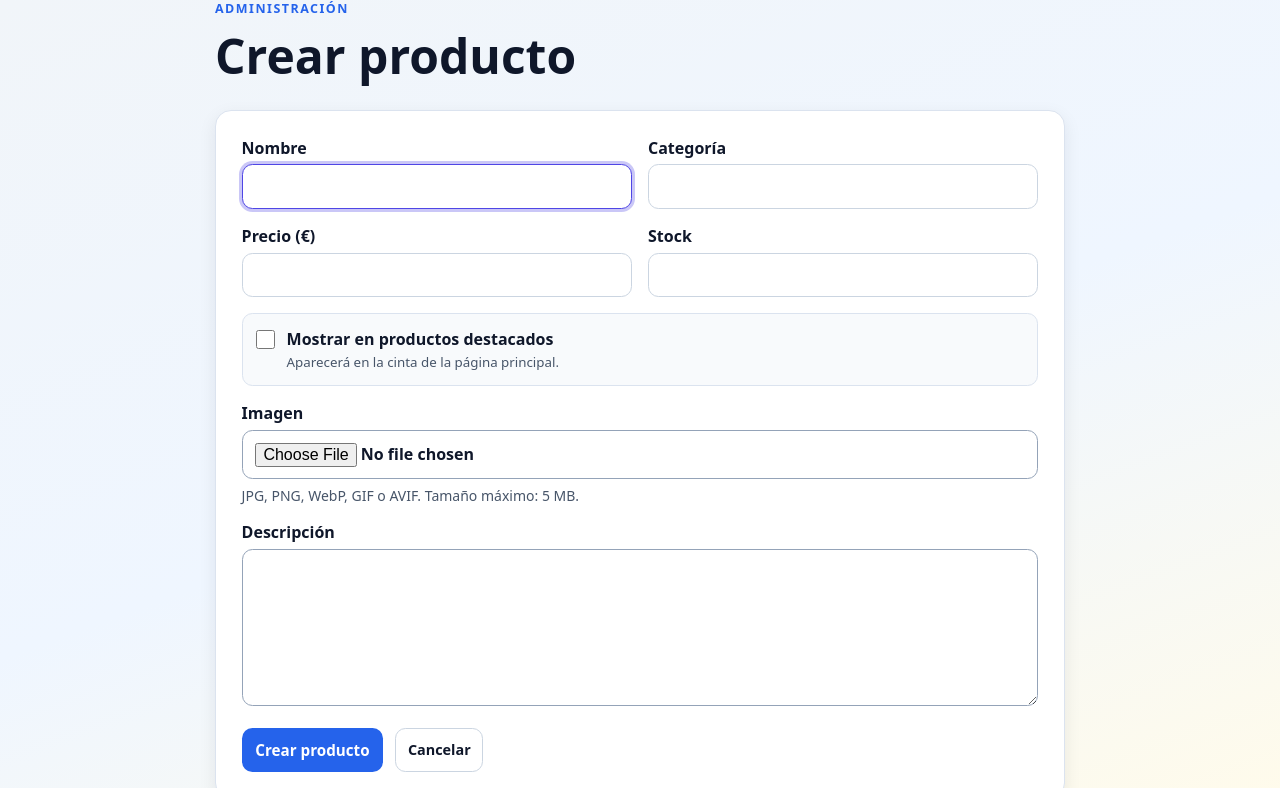
AdminProductFormPage › valida los campos antes de crear
Click the button "Crear producto" at (312, 750), box [242, 728, 383, 772]
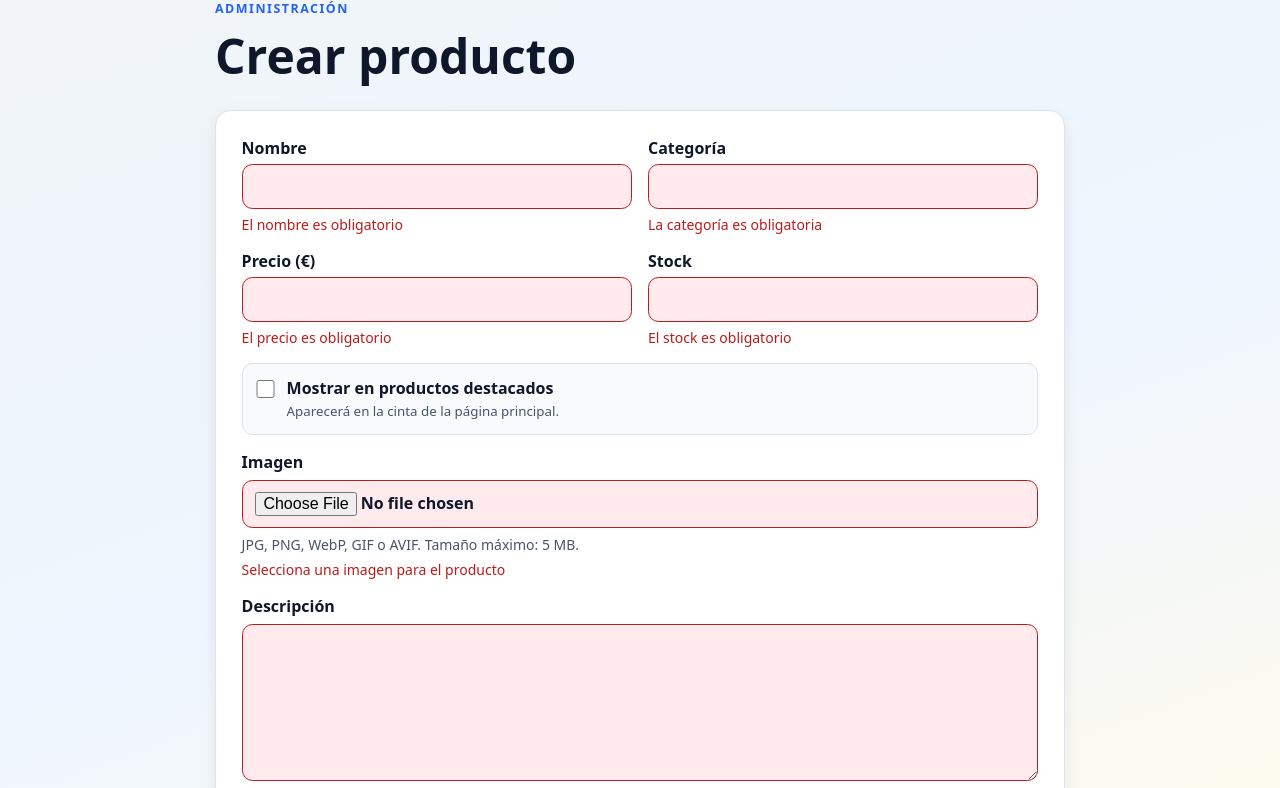
expect the text "El nombre es obligatorio" is shown: met, box [242, 214, 403, 234]
expect the text "El precio es obligatorio" is shown: met, box [242, 328, 392, 346]
expect the text "Selecciona una imagen para el producto" is shown: met, box [242, 560, 505, 579]
